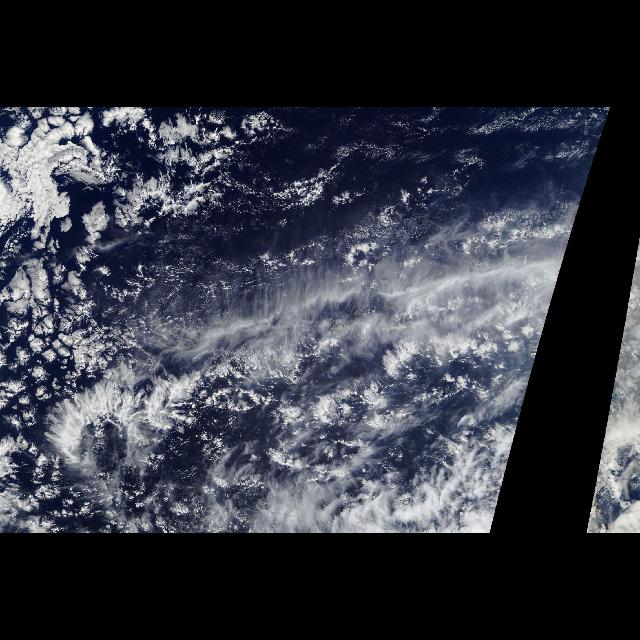Fish: (31, 199, 585, 483)
Flower: (3, 254, 117, 390)
Gravel: (286, 132, 542, 208)
Sugar: (244, 110, 586, 214)
